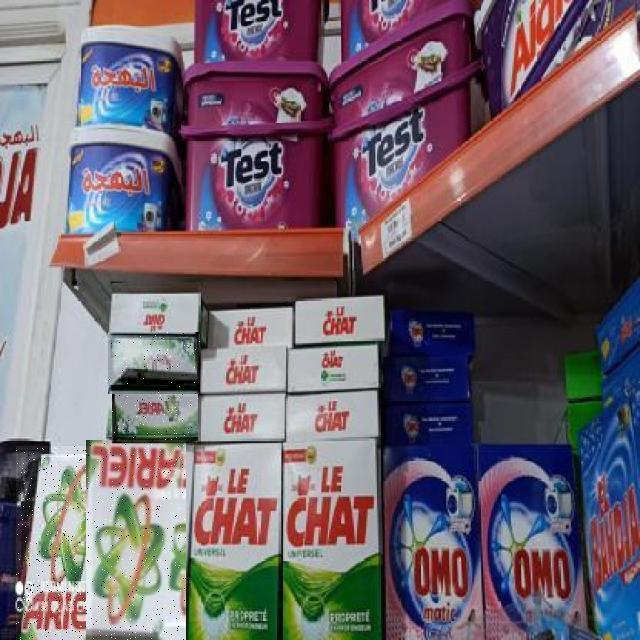Detergent: (86, 440, 186, 640), (17, 446, 93, 640), (108, 332, 200, 394), (113, 386, 199, 443)
